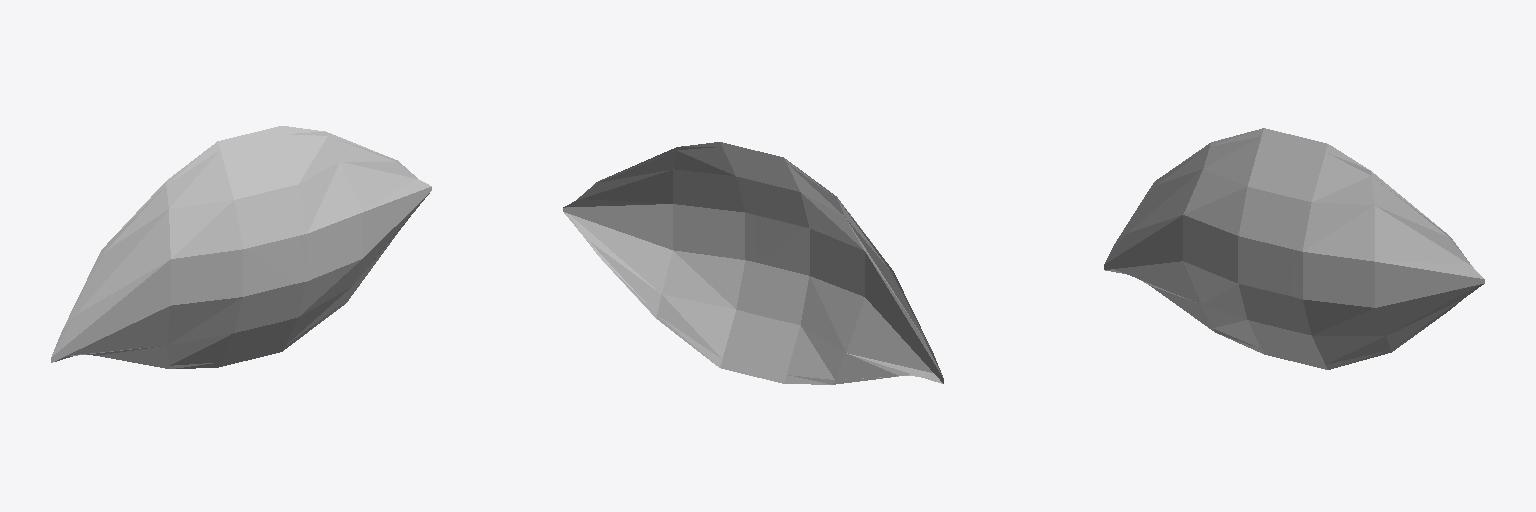
The model's file is eyeL.obj.
3 views of the same model, side by side, from view 1: azimuth 30°, elevation 25°; view 2: azimuth 150°, elevation 25°; view 3: azimuth 330°, elevation 25° (orthographic).
Parts seen in each view (by area): view 1: eyeL; view 2: eyeL; view 3: eyeL.
Boxes of the visible parts, x1,y1,x2,y2 form: eyeL: [51, 126, 431, 368]; eyeL: [563, 142, 943, 384]; eyeL: [1104, 128, 1484, 369].
Bounding box in the file's own units: 3.86 × 2.19 × 0.5087.